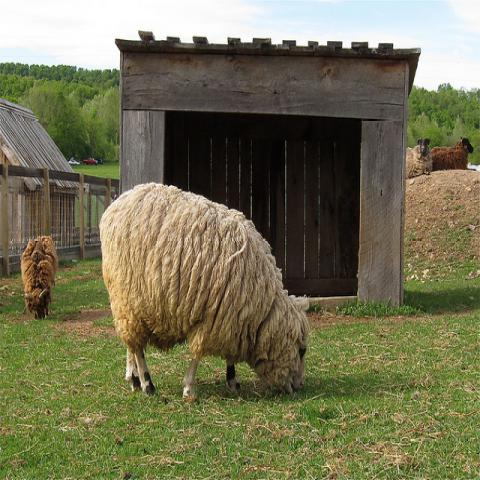car: (83, 158, 97, 166), (68, 160, 81, 166)
